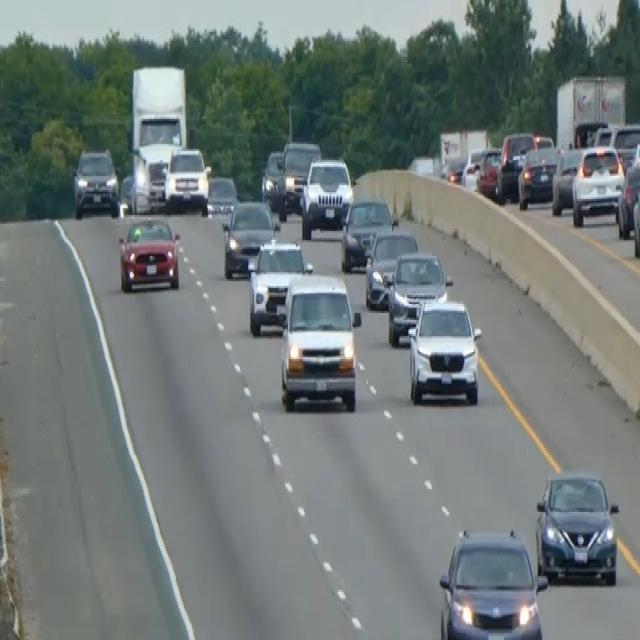car: (437, 524, 547, 638), (534, 467, 620, 585), (407, 295, 482, 405), (246, 236, 312, 336), (386, 249, 452, 345), (117, 214, 181, 292), (221, 197, 279, 279), (300, 155, 354, 238), (571, 142, 624, 226), (364, 228, 418, 310), (340, 196, 395, 272), (72, 146, 119, 218), (164, 144, 210, 212), (280, 138, 321, 210), (496, 130, 536, 201), (517, 144, 557, 210), (131, 144, 169, 212), (551, 144, 585, 215), (594, 121, 639, 172), (616, 158, 639, 238), (261, 148, 285, 210), (205, 172, 237, 217), (476, 146, 502, 199), (460, 146, 484, 190), (441, 153, 466, 185), (631, 169, 639, 259), (118, 172, 135, 214)
lorry: (127, 62, 189, 208)
minivan: (277, 268, 362, 414)
